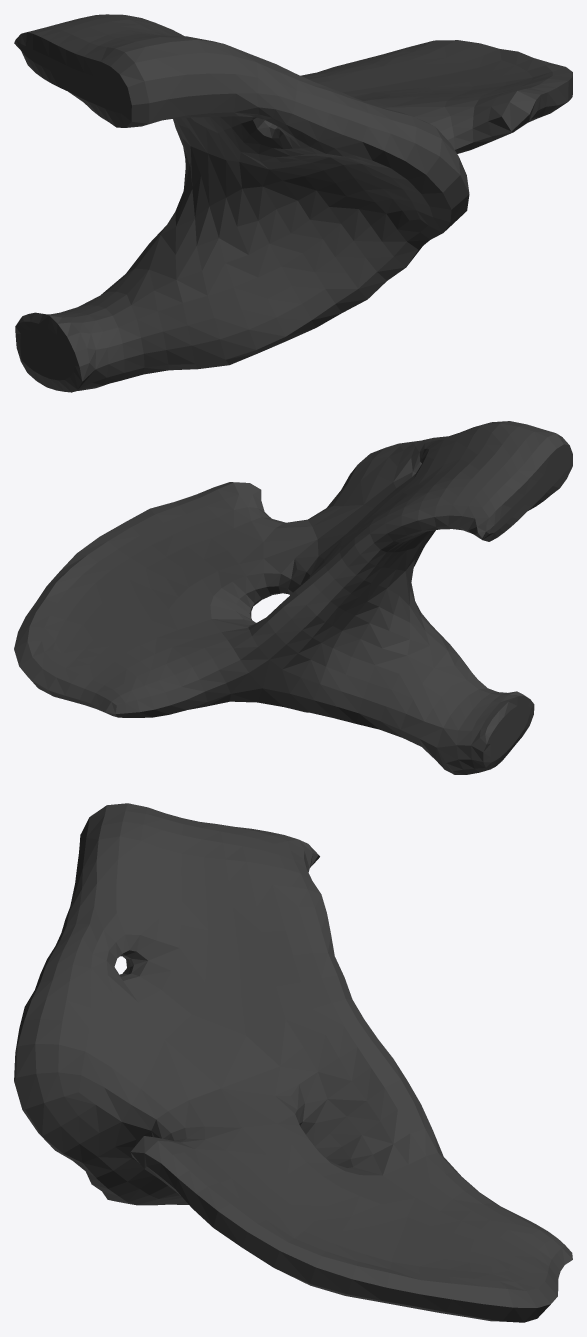
The model's file is C1_Atlas.glb.
3 views of the same model, one above another, from view 1: azimuth 30°, elevation 25°; view 2: azimuth 150°, elevation 25°; view 3: azimuth 270°, elevation 25° (orthographic). The views are drawn at different scales.
Visible parts, largest first — view 1: C1_Atlas; view 2: C1_Atlas; view 3: C1_Atlas.
Boxes of the visible parts, x1,y1,x2,y2 form: C1_Atlas: [14, 14, 572, 392]; C1_Atlas: [14, 421, 572, 774]; C1_Atlas: [14, 803, 572, 1322].
Bounding box in the file's own units: 0.0126 × 0.00864 × 0.0113.
Materials: 1 (1 with a texture image).
